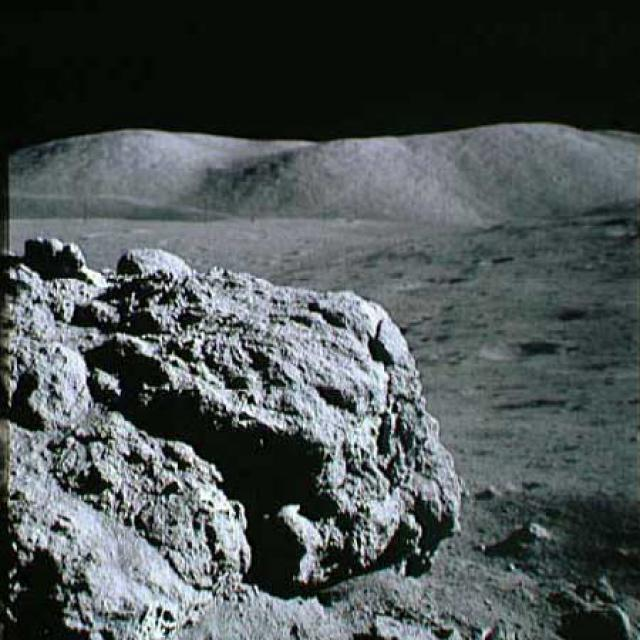crater: (475, 334, 564, 368), (528, 295, 616, 325), (408, 265, 476, 293)
rock: (3, 231, 462, 638), (523, 511, 553, 548)
